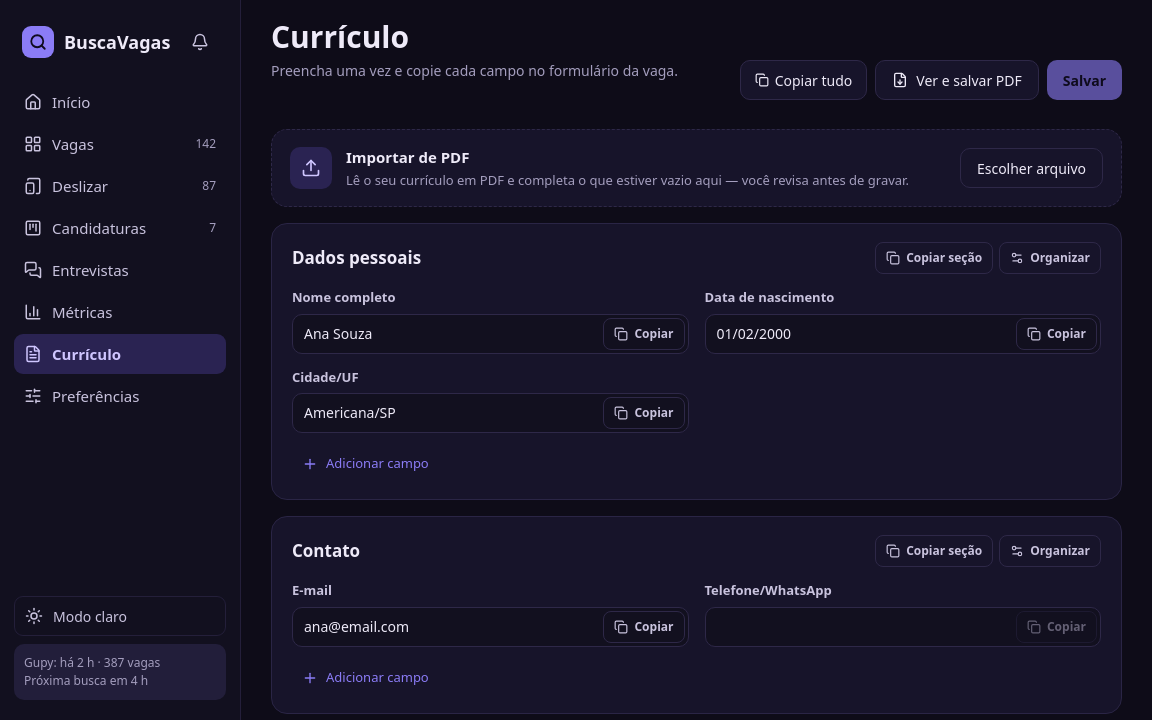
Test case: Currículo › "Salvar" envia só os itens alterados, um de cada vez
The image size is (1152, 720).
Expected: the heading "Contato" is shown, [292,540,360,562]
Clear the text box labelled "E-mail" at (446, 626), box [293,610,600,642]
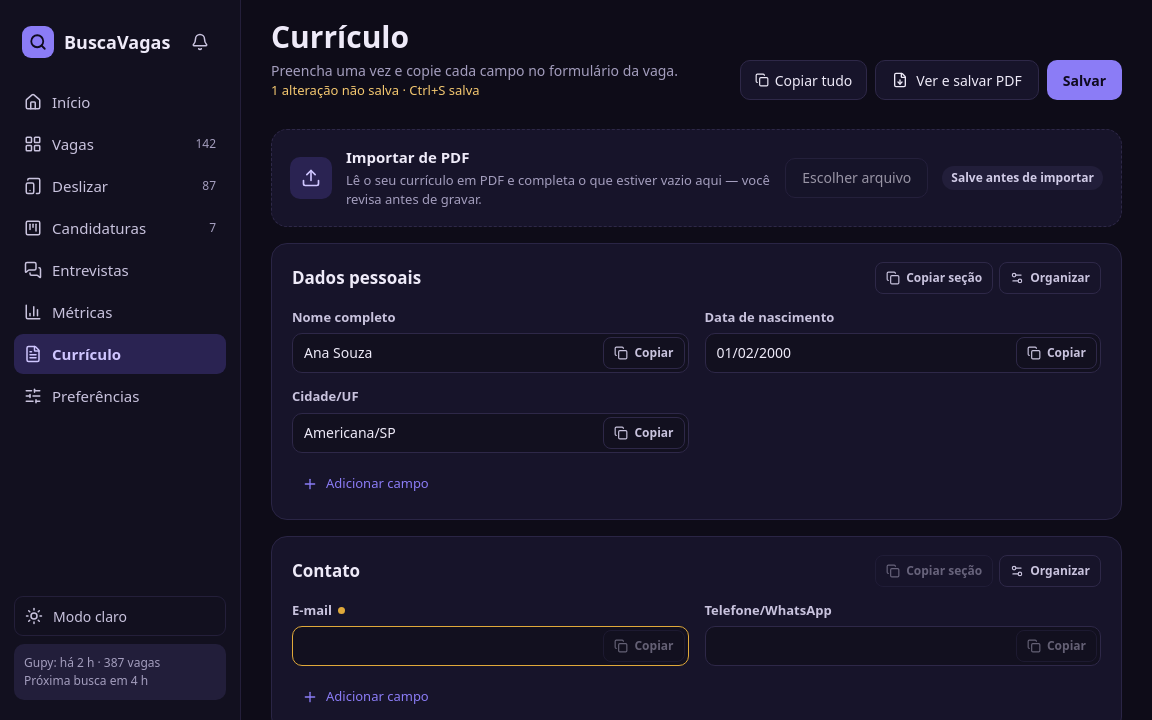
Type "ana@novo.com" into the text box labelled "E-mail" at (446, 646), box [293,630,600,662]
(page scrolled)
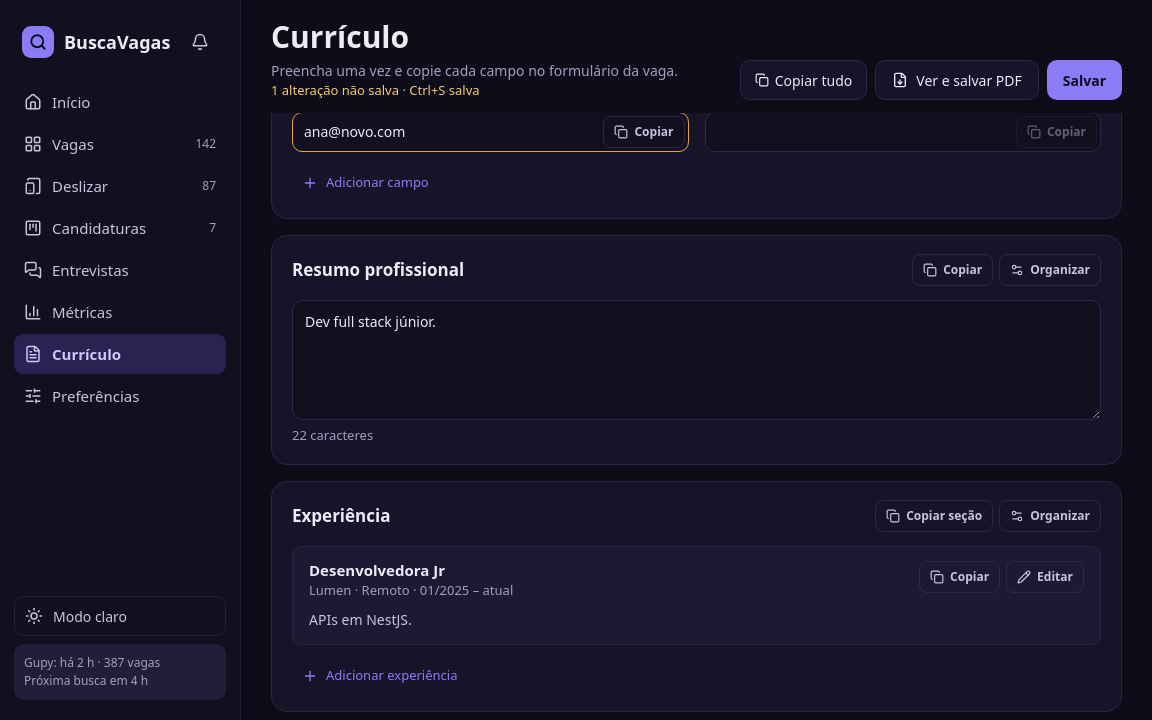
Type " Gosto de testes." into the text box named "Resumo profissional" at (696, 360), box [292,300,1101,420]
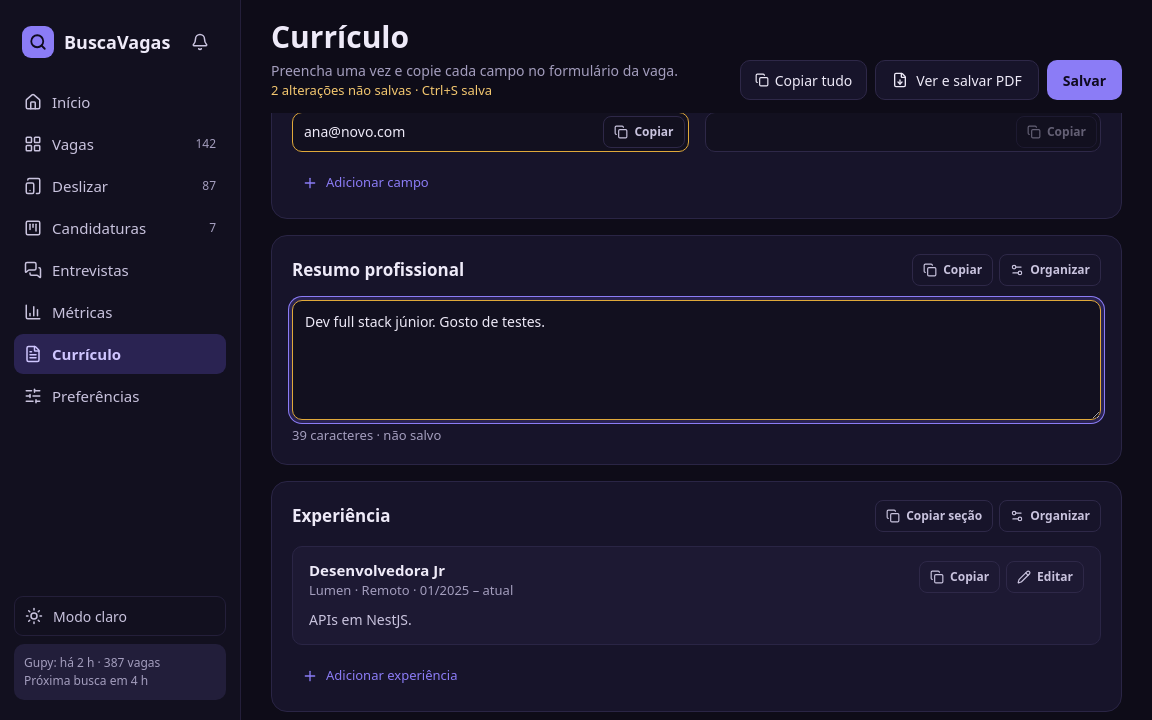
Expected: the text "2 alterações não salvas · Ctrl+S salva" is shown, [271,80,492,98]
Click the button "Salvar" at (1084, 80), box [1047,60,1122,100]
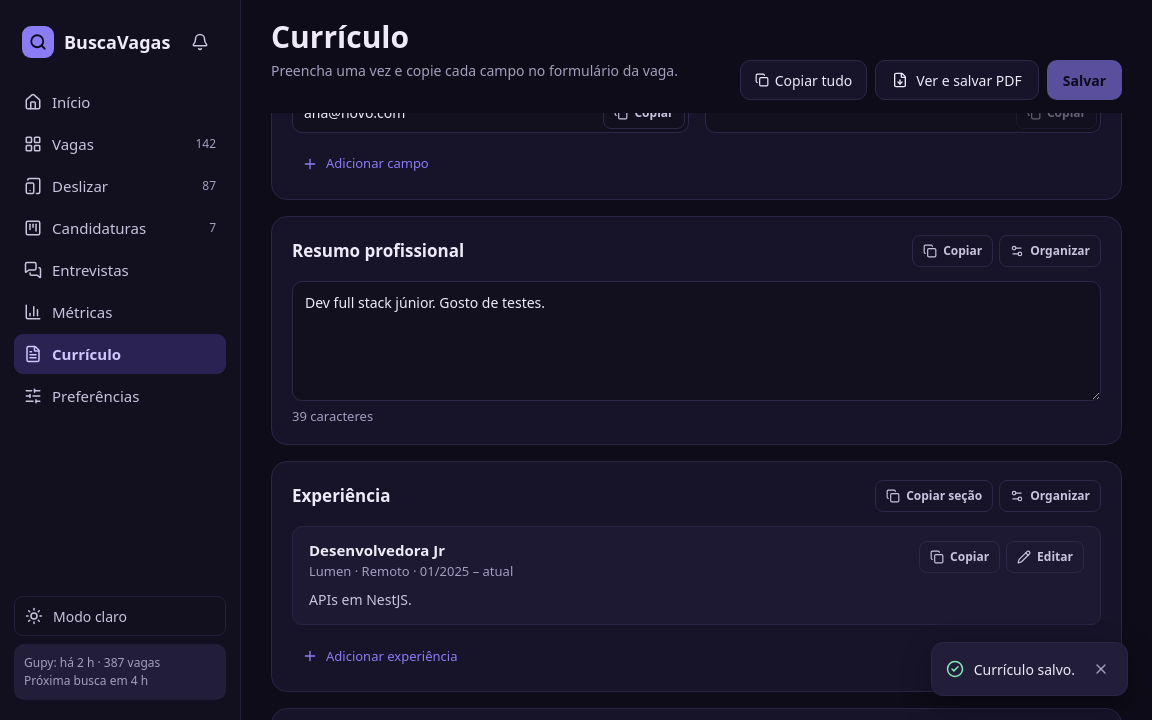
Expected: the text "Currículo salvo." is shown, [974,658,1075,680]
Expected: the button "Salvar" is disabled, [1047,60,1122,100]
Expected: the text "não salvas?" is gone
